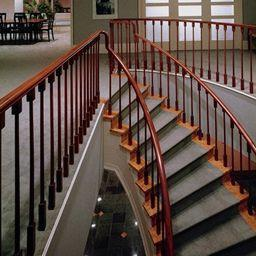Escaleras: (104, 80, 255, 254)
